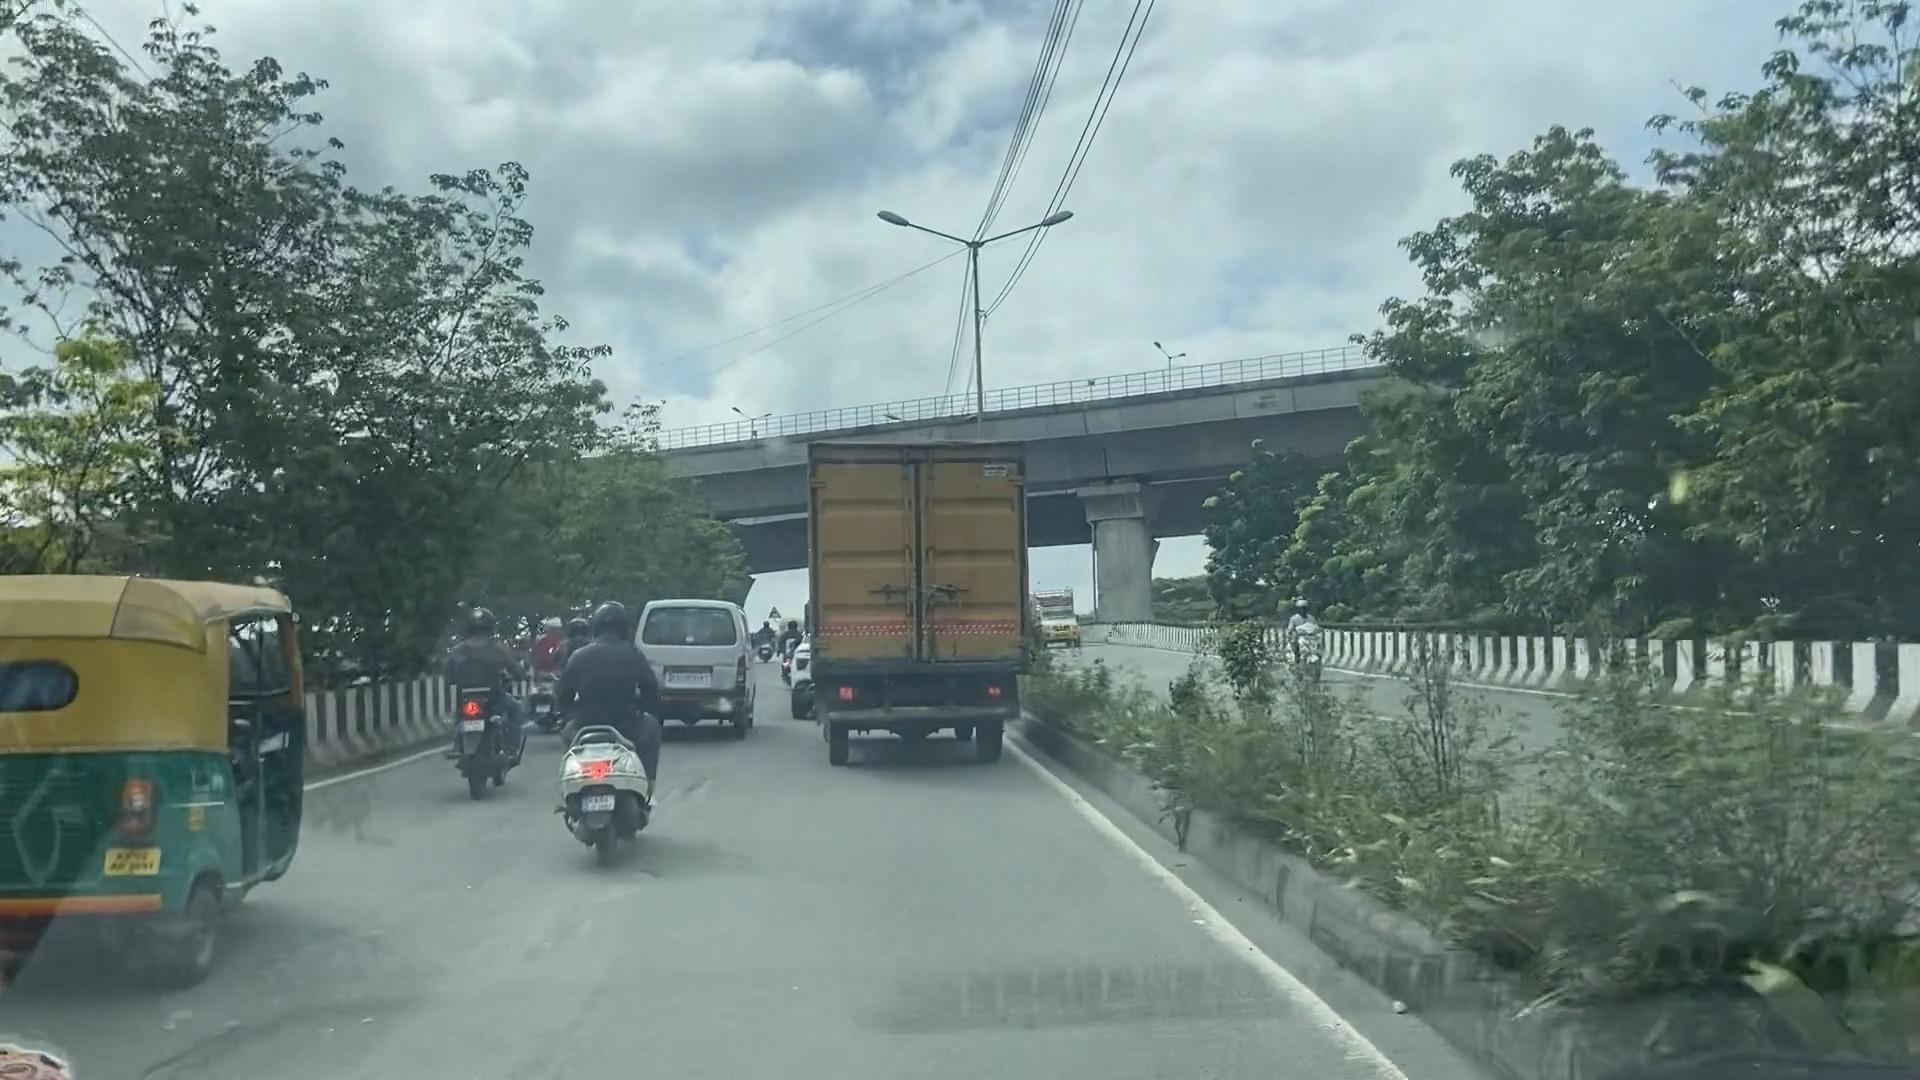HMV: (796, 450, 1014, 758)
LMV: (3, 583, 297, 1026), (567, 600, 658, 873), (440, 600, 524, 823)
